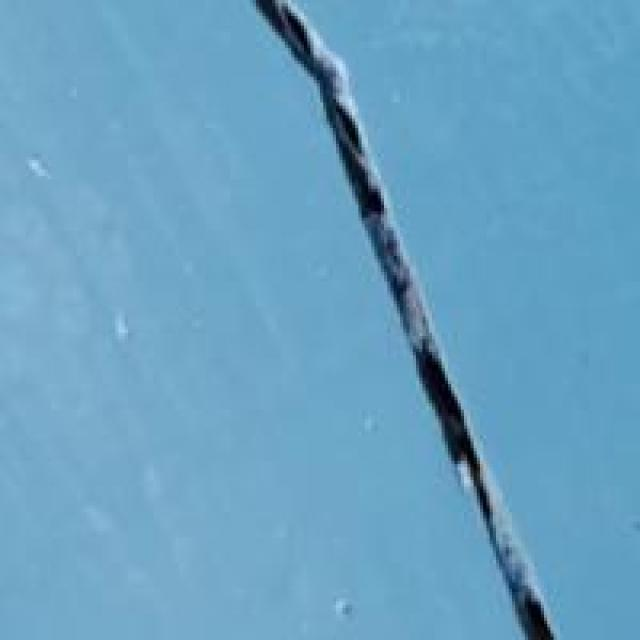crack: (246, 9, 592, 636)
